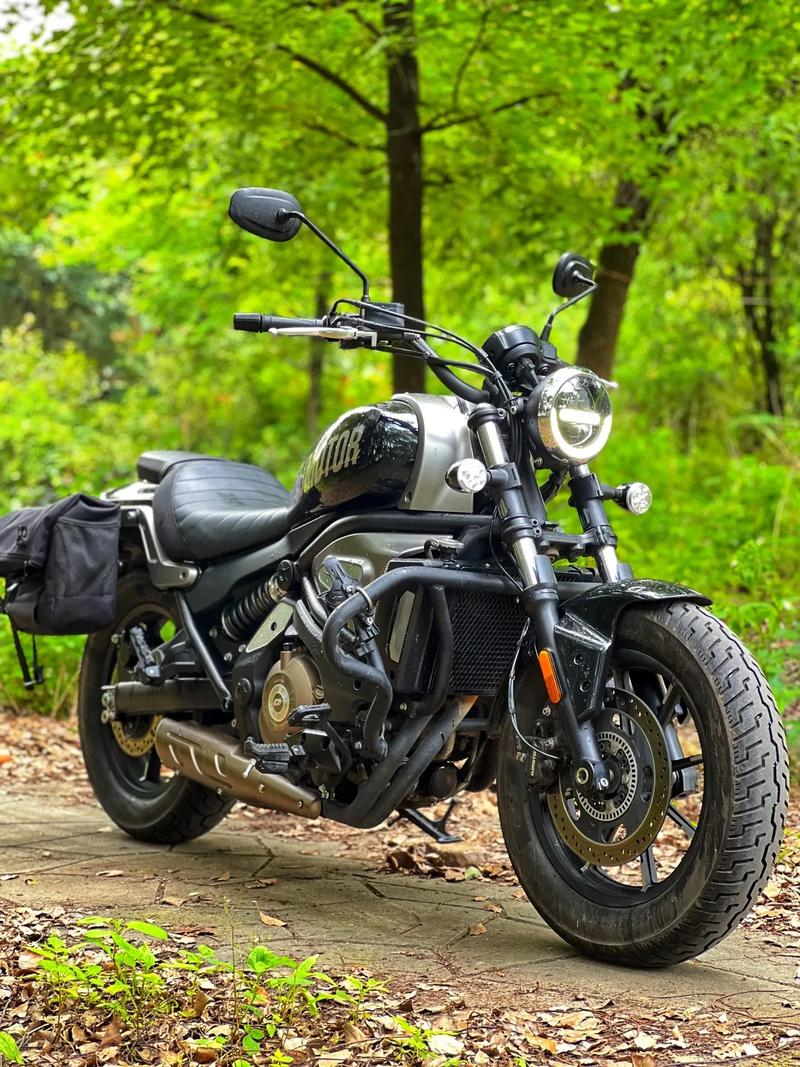摩托车: (40, 184, 780, 980)
